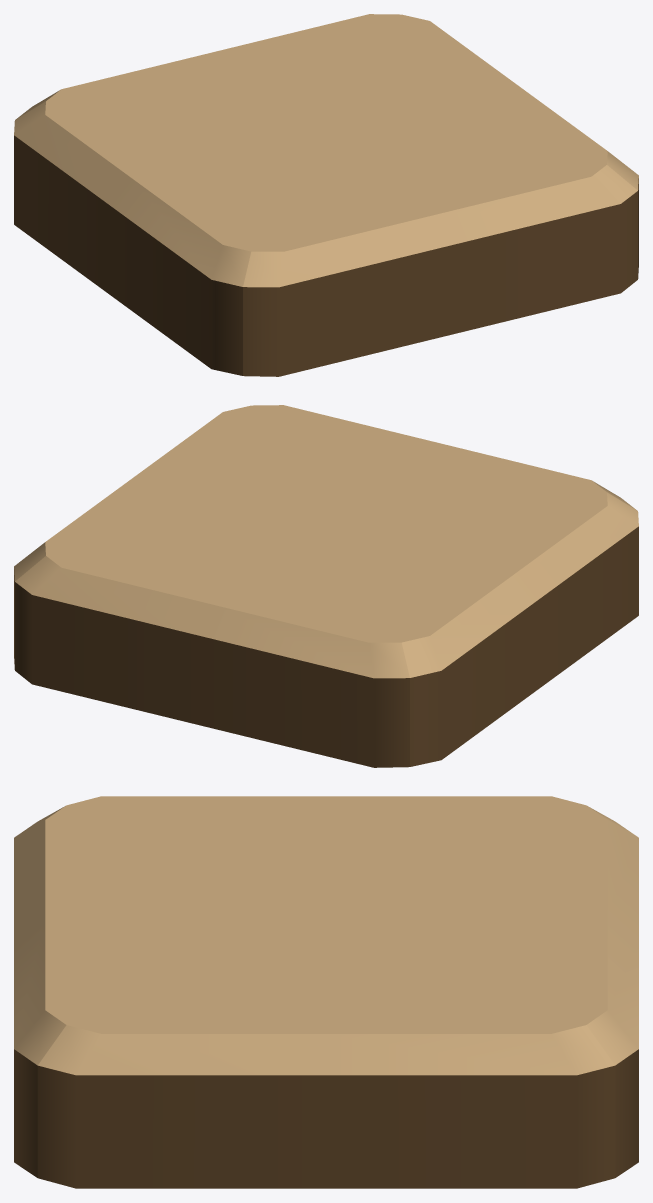
The model's file is Tile_Desert.fbx.
3 views of the same model, one above another, from view 1: azimuth 30°, elevation 25°; view 2: azimuth 150°, elevation 25°; view 3: azimuth 270°, elevation 25° (orthographic). The views are drawn at different scales.
Visible parts, largest first — view 1: polySurface5; view 2: polySurface5; view 3: polySurface5.
Part boxes in pixels (x1,y1,x2,y2): polySurface5: (14, 14, 638, 376); polySurface5: (14, 405, 638, 767); polySurface5: (14, 796, 638, 1188).
Bounding box in the file's own units: 0.3937 × 0.0984 × 0.3937.
